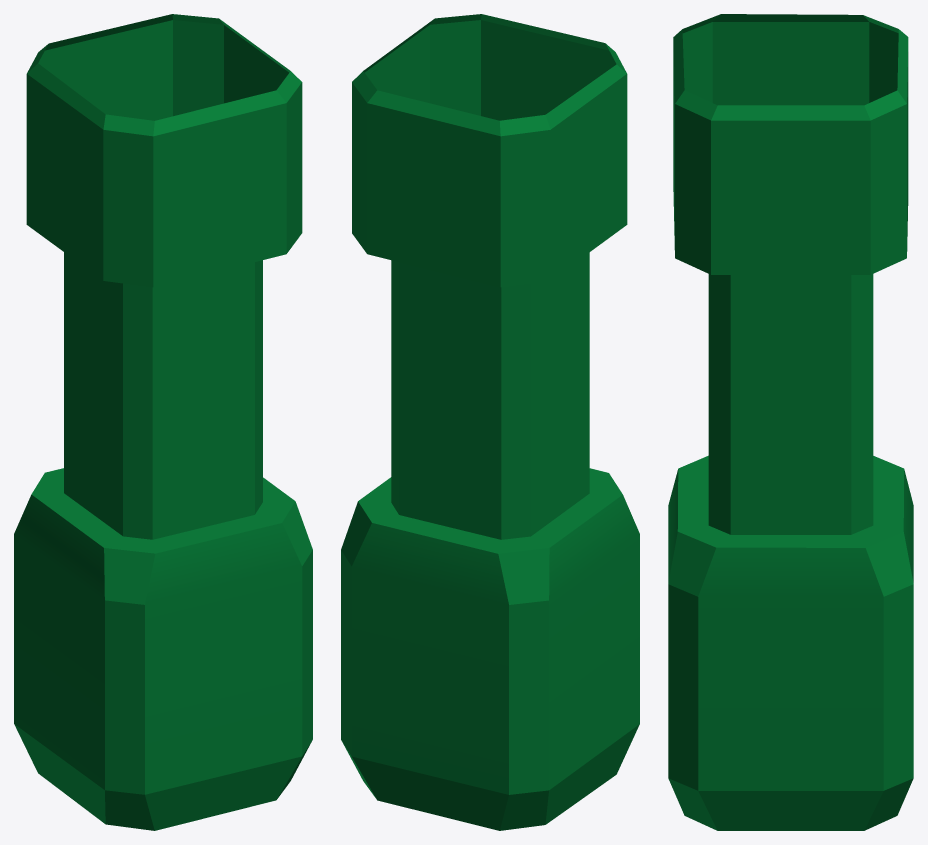
Rendered from mesh_BuildingA_PillarLevel_v2.fbx.
3 views of the same model, side by side, from view 1: azimuth 30°, elevation 25°; view 2: azimuth 150°, elevation 25°; view 3: azimuth 270°, elevation 25° (orthographic). The views are drawn at different scales.
Visible parts, largest first — view 1: mesh_BuildingA_PillarLevel; view 2: mesh_BuildingA_PillarLevel; view 3: mesh_BuildingA_PillarLevel.
Part boxes in pixels (box(x1,y1,x2,y2)): mesh_BuildingA_PillarLevel: box(14, 14, 312, 830); mesh_BuildingA_PillarLevel: box(341, 14, 639, 830); mesh_BuildingA_PillarLevel: box(668, 14, 913, 830).
Size of the model in its own units: 61.33 by 200 by 61.33.
